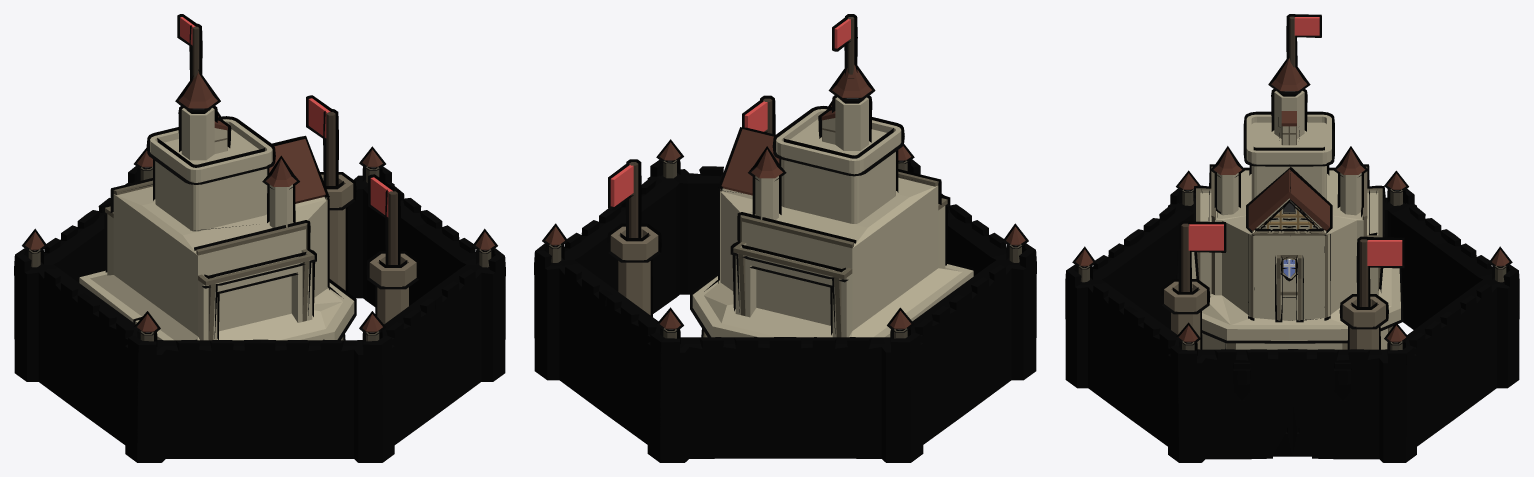
3 renders of one model, left to right at view 1: azimuth 30°, elevation 25°; view 2: azimuth 150°, elevation 25°; view 3: azimuth 270°, elevation 25°, orthographic. The views are drawn at different scales.
Visible parts, largest first — view 1: 圆环.001; view 2: 圆环.001; view 3: 圆环.001.
Part boxes in pixels (box(x1,y1,x2,y2)): 圆环.001: box(14, 14, 505, 462); 圆环.001: box(534, 14, 1036, 462); 圆环.001: box(1065, 14, 1519, 462).
Size of the model in its own units: 384 by 364 by 444.
